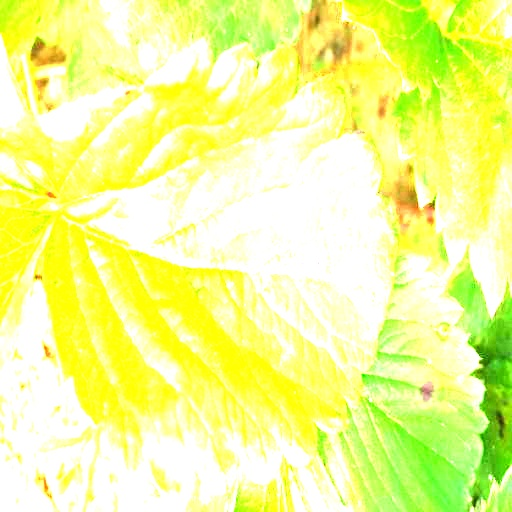Leaf Spot: (43, 36, 398, 506), (318, 252, 490, 511), (391, 0, 511, 321), (0, 85, 144, 195)
